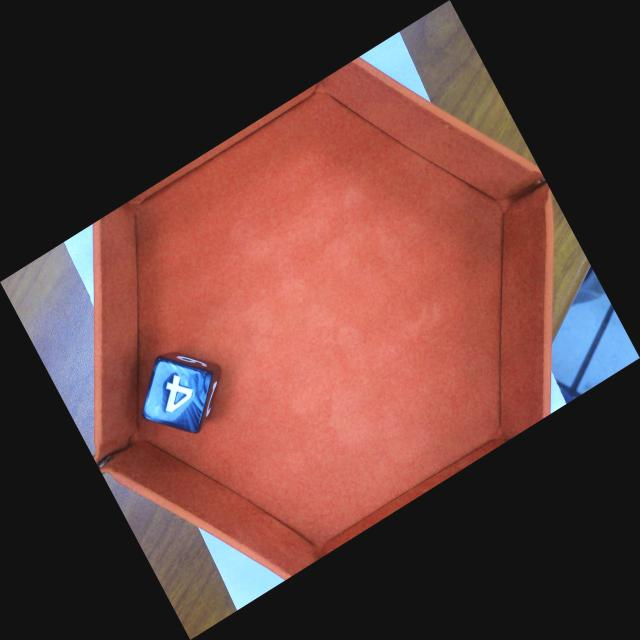dice: (144, 359, 215, 434)
